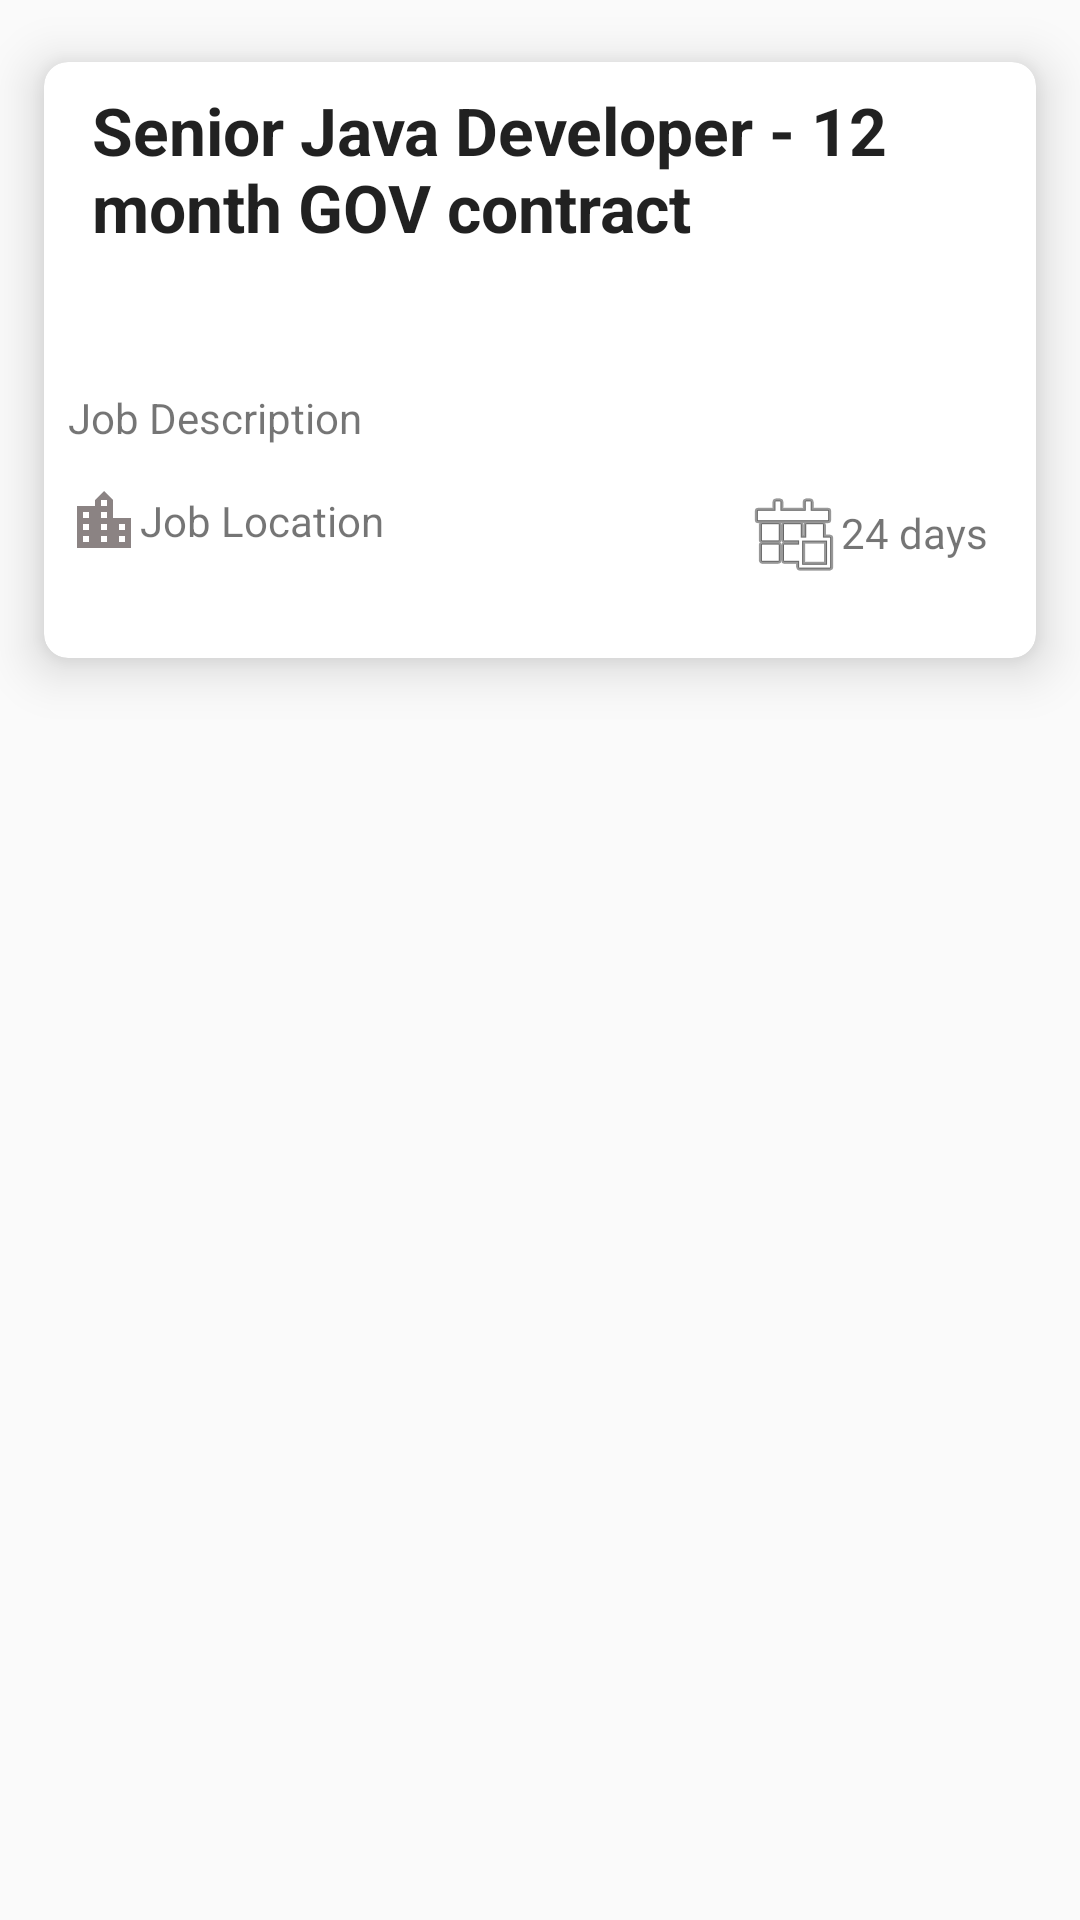

Screen size 1080×1920. Icon name, then its center in pixels as point (x, y):
location city: point (104, 519)
today: point (794, 534)
